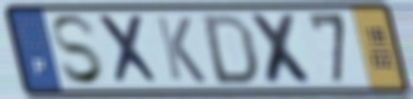7: (305, 10, 349, 87)
D: (201, 12, 260, 87)
K: (153, 14, 209, 85)
S: (48, 12, 108, 88)
X: (245, 11, 319, 87), (93, 13, 166, 87)
